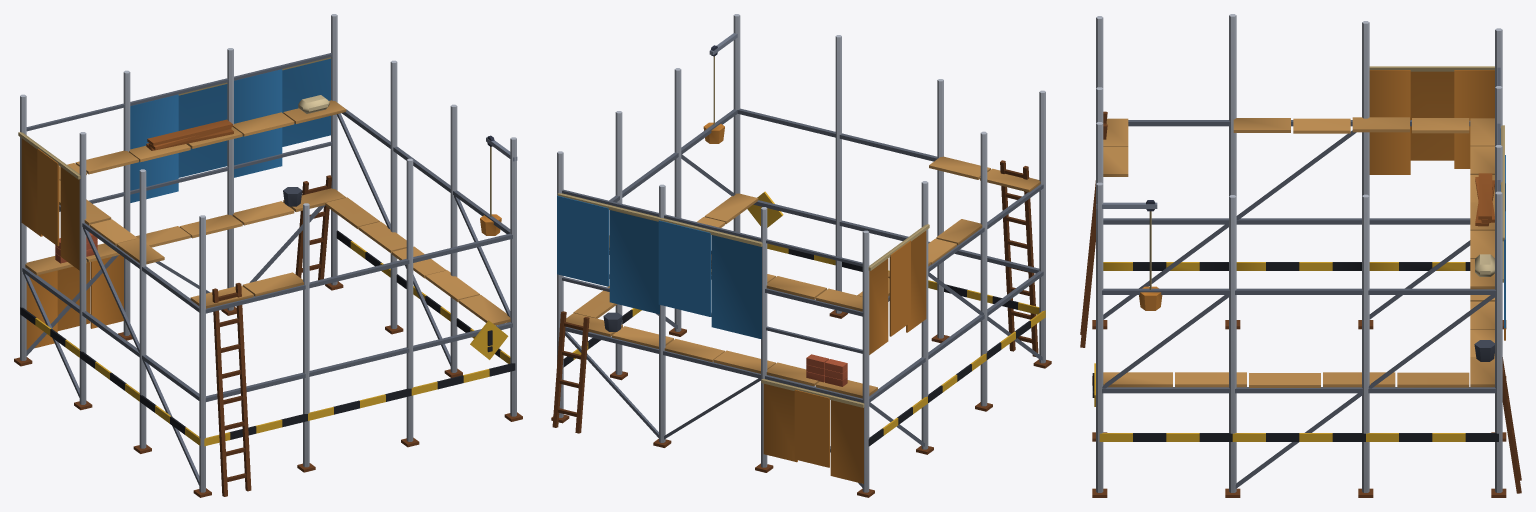
File: b_scaffold_3x3.glb
3 renders of one model, left to right at view 1: azimuth 30°, elevation 25°; view 2: azimuth 150°, elevation 25°; view 3: azimuth 270°, elevation 25°, orthographic. The views are drawn at different scales.
Parts seen in each view (by area): view 1: body, sway_tarp1, sway_tarp3, sway_tarp2; view 2: body, sway_tarp1, sway_tarp2, sway_tarp3; view 3: body, sway_tarp3, sway_tarp1.
Boxes of the visible parts, bbox=[...] form: body: bbox=[14, 14, 522, 497]; sway_tarp1: bbox=[130, 57, 330, 202]; sway_tarp3: bbox=[18, 132, 80, 270]; sway_tarp2: bbox=[26, 255, 123, 349]; body: bbox=[551, 14, 1051, 497]; sway_tarp1: bbox=[557, 193, 762, 339]; sway_tarp2: bbox=[761, 379, 864, 483]; sway_tarp3: bbox=[868, 224, 929, 354]; body: bbox=[1080, 14, 1521, 497]; sway_tarp3: bbox=[1369, 66, 1494, 174]; sway_tarp1: bbox=[1500, 125, 1505, 328].
Bounding box in the file's own units: 6.15 × 5.13 × 6.5.
